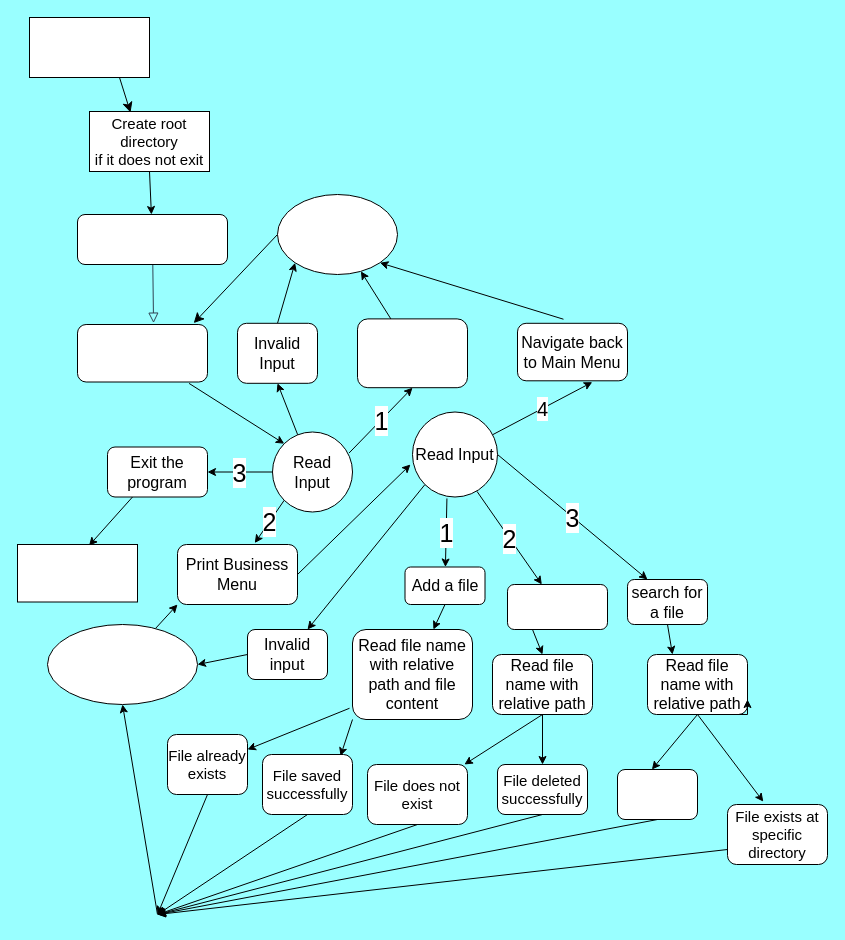
Some shapes in this 845 by 940 pixel diagram are drawn without their labels. Here are the shapes that lost their labels. From the top down, the centre of each, then its label:
At (x=89, y=47): "START".
At (x=152, y=239): "Display Application Info".
At (x=337, y=234): "Repeat Main Menu".
At (x=142, y=353): "Print Main Menu".
At (x=412, y=353): "Print all files recursively in root folder".
At (x=77, y=573): "END".
At (x=557, y=607): "Delete a file".
At (x=122, y=664): "Repeat Business Menu".
At (x=657, y=794): "File Not Found".
